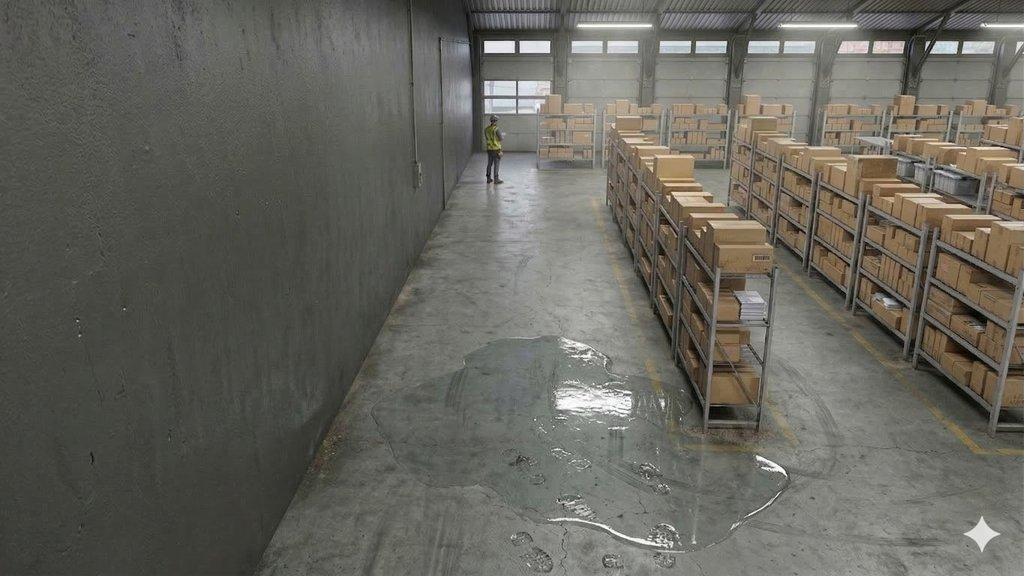person: (476, 107, 519, 193)
safety_vest: (484, 124, 505, 154)
spill: (378, 334, 787, 547)
